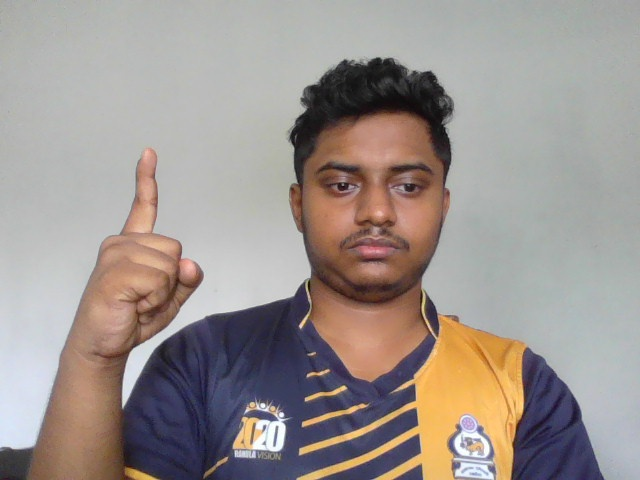Me: (68, 149, 203, 356)
